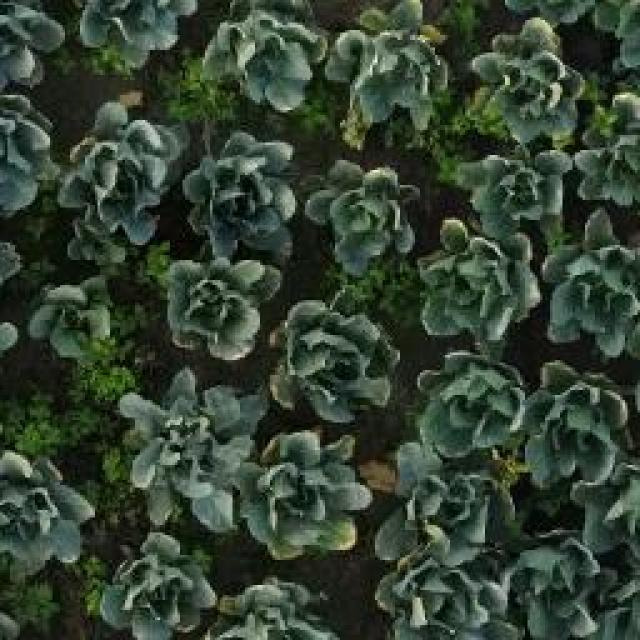cabbage: (121, 383, 241, 522), (521, 353, 629, 496), (376, 444, 500, 566), (427, 225, 543, 344), (71, 117, 172, 253), (244, 440, 368, 547), (153, 247, 265, 365), (333, 6, 443, 125), (282, 306, 392, 420), (471, 24, 581, 135), (376, 551, 511, 640), (410, 348, 521, 456), (545, 216, 640, 340), (190, 131, 296, 241), (95, 541, 211, 640), (314, 161, 418, 268), (517, 542, 628, 640), (0, 450, 88, 568), (208, 12, 318, 106), (463, 150, 572, 231), (29, 284, 123, 359), (80, 0, 186, 57), (576, 112, 640, 205)
